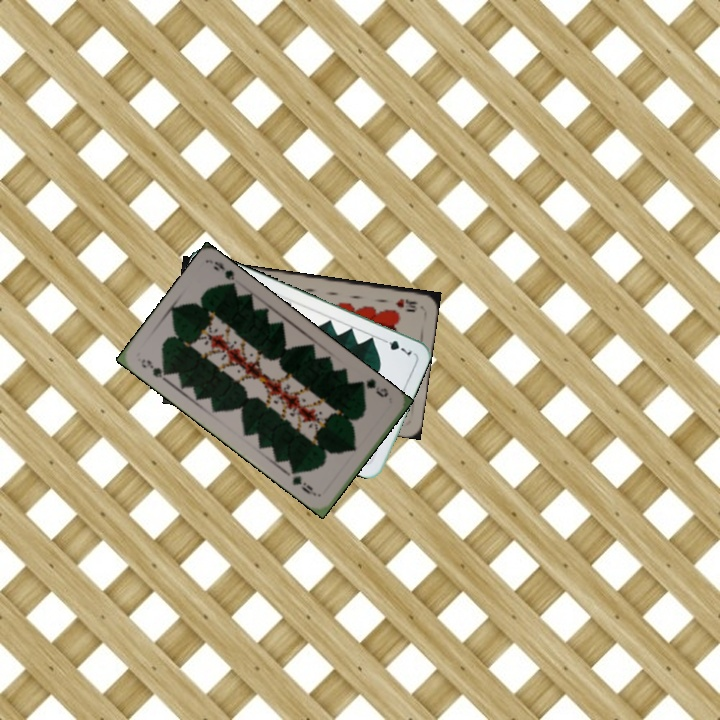G7: (377, 334, 414, 359)
G9: (137, 355, 171, 384), (356, 374, 391, 400)
H10: (391, 295, 420, 312)
